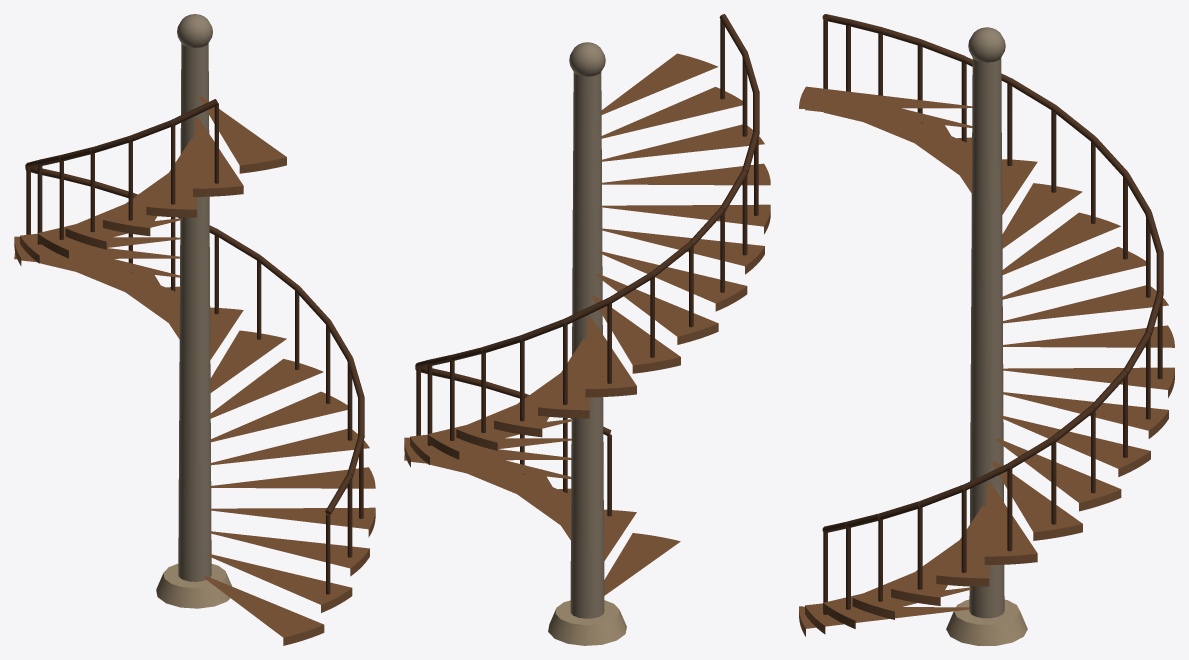
The model's file is stairs.glb.
3 views of the same model, side by side, from view 1: azimuth 30°, elevation 25°; view 2: azimuth 150°, elevation 25°; view 3: azimuth 270°, elevation 25° (orthographic). The views are drawn at different scales.
Visible parts, largest first — view 1: Step (×23), Pole, PoleBase, PoleBall; view 2: Step (×23), Pole, PoleBase, PoleBall; view 3: Step (×23), Pole, PoleBase, PoleBall.
Part boxes in pixels (x1,y1,x2,y2): Step (×23): [14, 97, 375, 645]; Pole: [178, 43, 211, 581]; PoleBase: [156, 563, 231, 608]; PoleBall: [177, 14, 212, 47]; Step (×23): [404, 53, 770, 595]; Pole: [570, 72, 604, 618]; PoleBase: [548, 600, 626, 645]; PoleBall: [569, 42, 605, 76]; Step (×23): [799, 86, 1174, 636]; Pole: [969, 58, 1004, 618]; PoleBase: [946, 599, 1027, 645]; PoleBall: [968, 27, 1005, 62].
Size of the model in its own units: 3.4 by 5.99 by 3.4.
